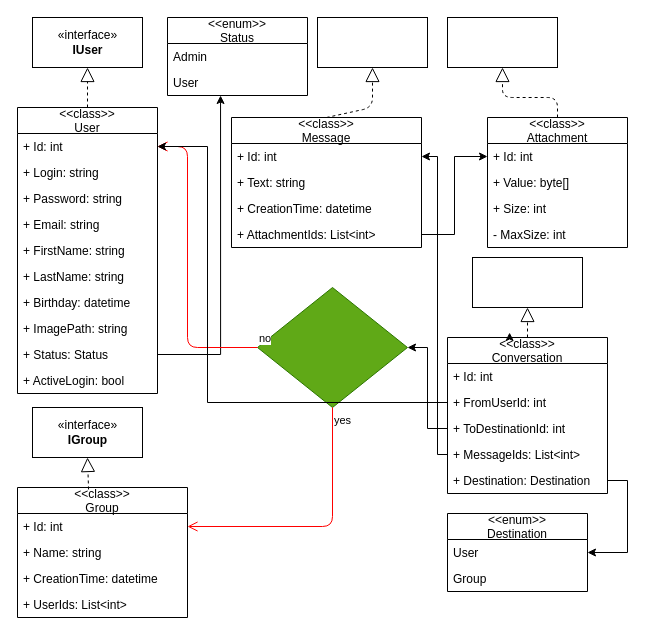
This 653x638 diagram has some shape labels left out. The shapes that lost their labels are listed below. From the top down, each one's centre as x and y in pixels, then its label:
point (372, 42): «interface» IMessage
point (502, 42): «interface» IAttachment
point (527, 282): «interface» IConversation
point (332, 347): Destination == Group
